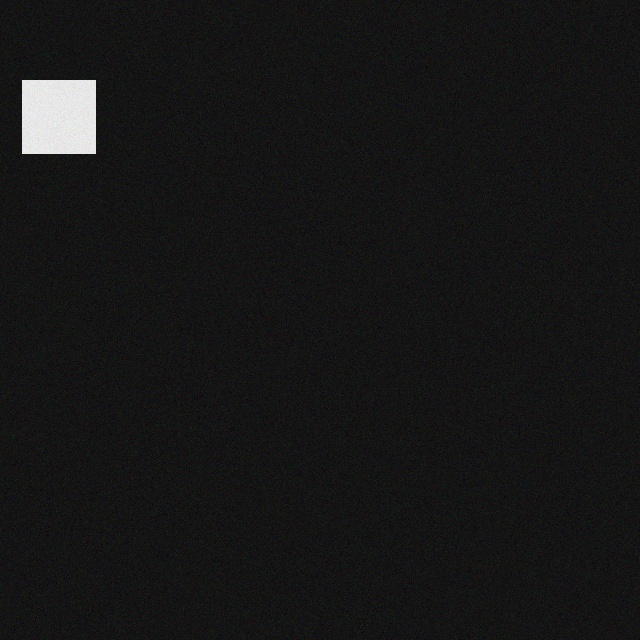square: (12, 69, 85, 142)
